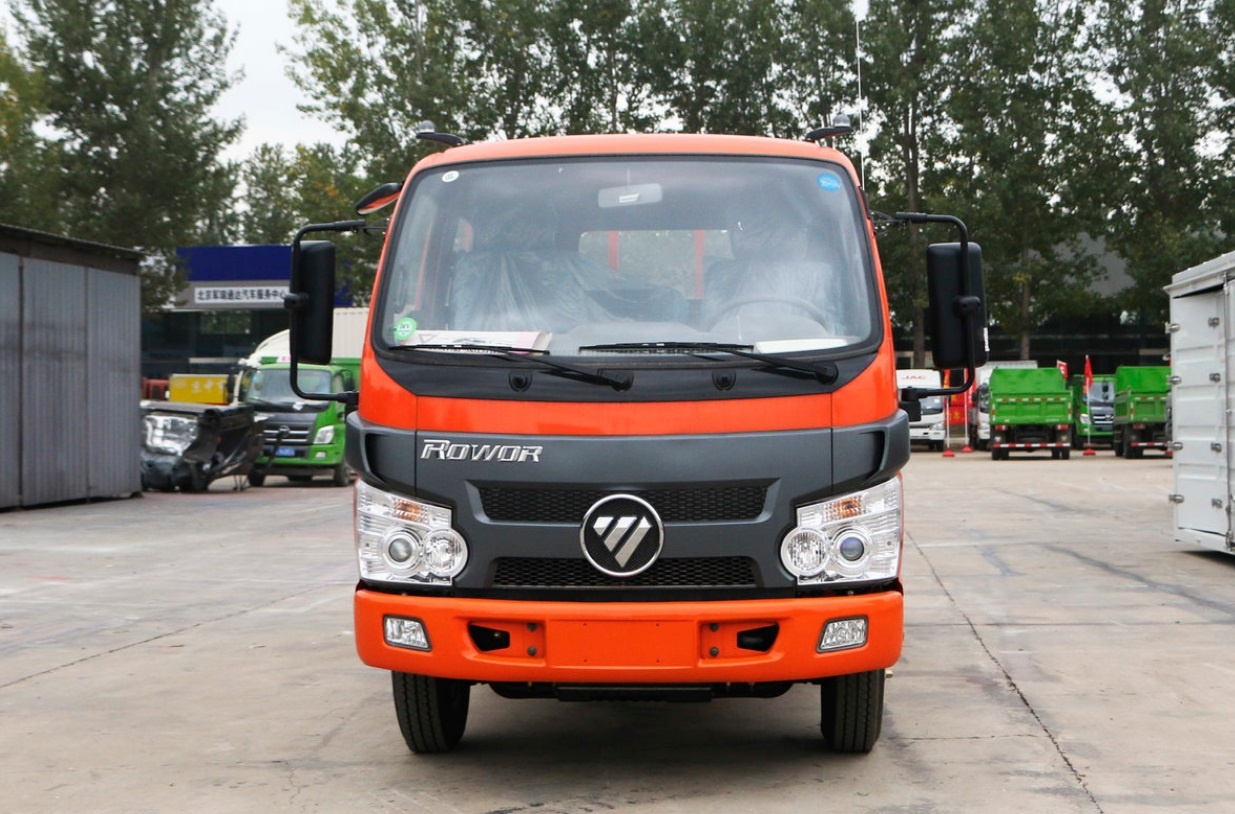truck: (249, 106, 1001, 756)
